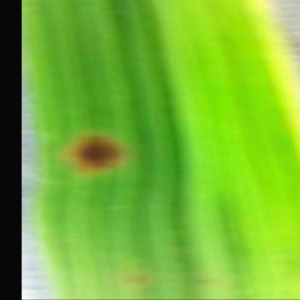Bacterial_Leaf_Blight: (56, 123, 137, 184)
